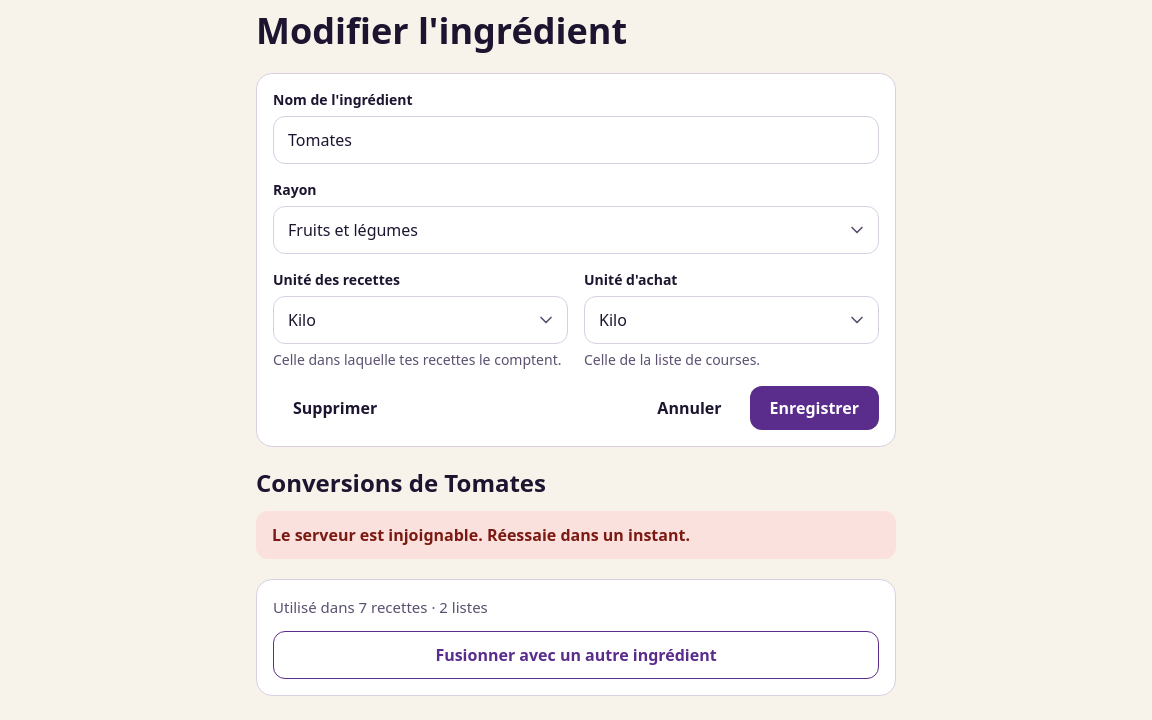
Test: la fusion depuis la fiche d'un ingrédient › la feuille de choix › s’ouvre sur le début du nom, avec le même rayon d’abord puis les autres
(page scrolled)
Expected: the text "Utilisé dans 7 recettes · 2 listes" is shown, x1=273 y1=597 x2=488 y2=617
Click the button "Fusionner avec un autre ingrédient". click: click(576, 654)
box: x1=273 y1=630 x2=879 y2=678
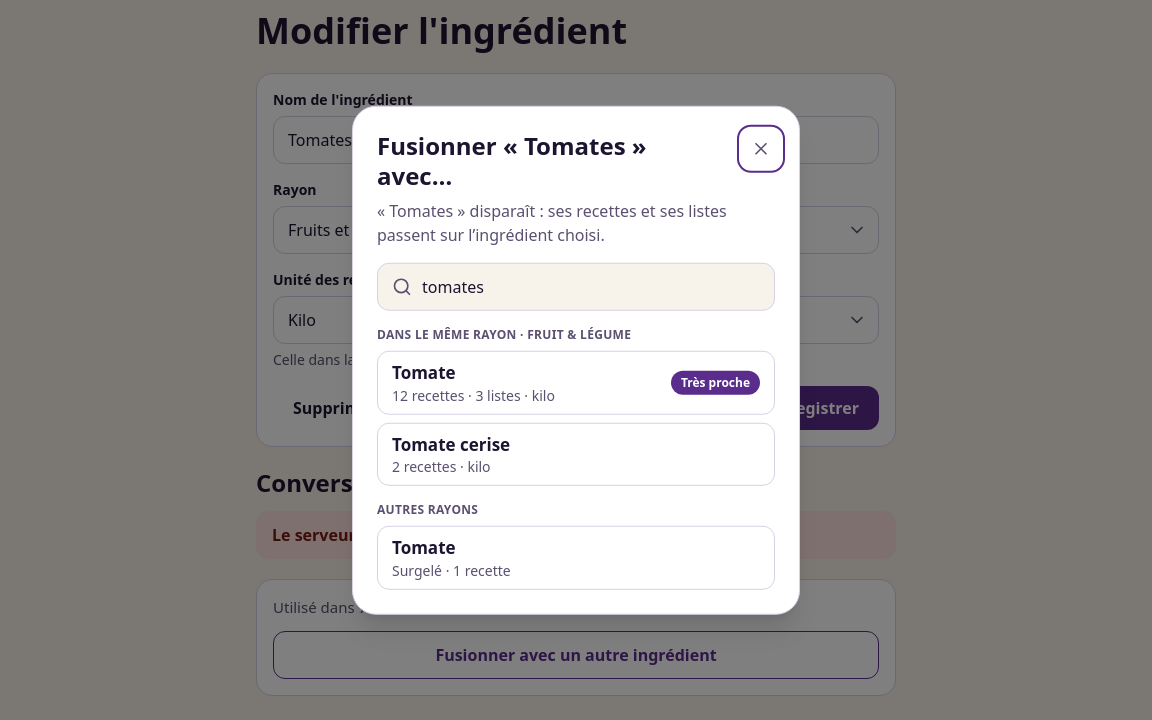
Expected: the dialog is shown, x1=352 y1=106 x2=800 y2=614
Expected: the dialog shows "Autres rayons", x1=377 y1=501 x2=478 y2=518
Expected: the dialog shows "Fusionner « Tomates » avec…", x1=377 y1=129 x2=647 y2=192
